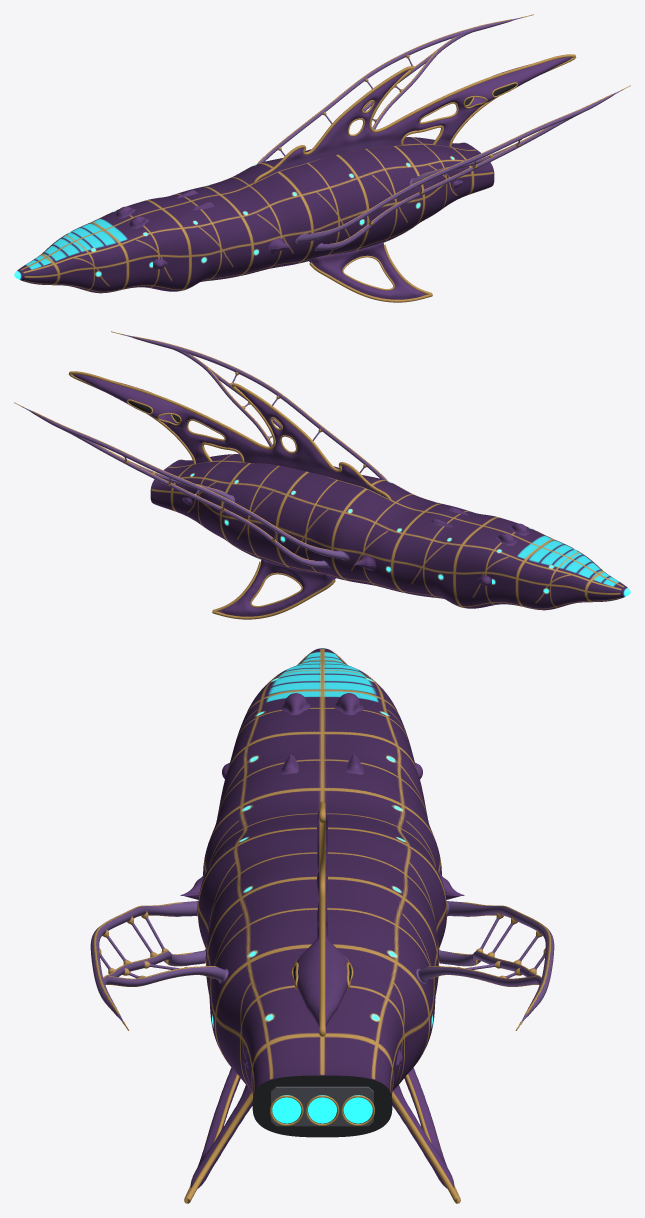
File: model_v44_web.glb
3 views of the same model, one above another, from view 1: azimuth 30°, elevation 25°; view 2: azimuth 150°, elevation 25°; view 3: azimuth 270°, elevation 25° (orthographic). The views are drawn at different scales.
Parts seen in each view (by area): view 1: EXT__EXT_Hull, EXT__EXT_Blade__NC, EXT__EXT_Copper__NC, EXT__EXT_Wing, EXT__EXT_Blade, EXT__EXT_Wing__NC, EXT__EXT_Copper; view 2: EXT__EXT_Hull, EXT__EXT_Blade__NC, EXT__EXT_Copper__NC, EXT__EXT_Wing__NC, EXT__EXT_Wing, EXT__EXT_Copper; view 3: EXT__EXT_Hull, EXT__EXT_Blade__NC, EXT__EXT_Copper__NC, EXT__EXT_Wing__NC, EXT__EXT_Wing, EXT__INT_Dark, EXT__EXT_Blade, EXT__EXT_Copper, INT_S__INT_Shell, DRV__DRV_Glow__NC.
Boxes of the visible parts, x1,y1,x2,y2 form: EXT__EXT_Hull: (14,137,494,293); EXT__EXT_Blade__NC: (115,57,572,218); EXT__EXT_Copper__NC: (253,14,576,183); EXT__EXT_Wing: (295,90,620,251); EXT__EXT_Blade: (128,180,462,299); EXT__EXT_Wing__NC: (258,17,520,163); EXT__EXT_Copper: (309,85,630,302); EXT__EXT_Hull: (150,454,630,610); EXT__EXT_Blade__NC: (72,374,516,616); EXT__EXT_Copper__NC: (14,371,391,619); EXT__EXT_Wing__NC: (24,407,349,568); EXT__EXT_Wing: (124,334,386,480); EXT__EXT_Copper: (111,331,387,480); EXT__EXT_Hull: (198,648,446,1095); EXT__EXT_Blade__NC: (296,693,464,1188); EXT__EXT_Copper__NC: (291,801,551,1203); EXT__EXT_Wing__NC: (416,900,554,1021); EXT__EXT_Wing: (90,900,228,1021); EXT__INT_Dark: (252,1075,392,1137); EXT__EXT_Blade: (180,693,310,1188); EXT__EXT_Copper: (93,902,253,1203); INT_S__INT_Shell: (271,1086,373,1126); DRV__DRV_Glow__NC: (308,1095,372,1123).
Bounding box in the file's own units: 118 × 40.32 × 41.54.
27 materials, 1 textured.
